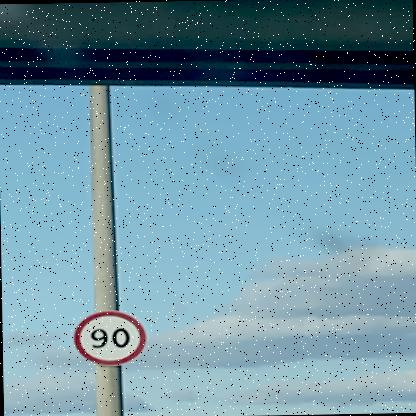speedlimit: (68, 308, 144, 364)
